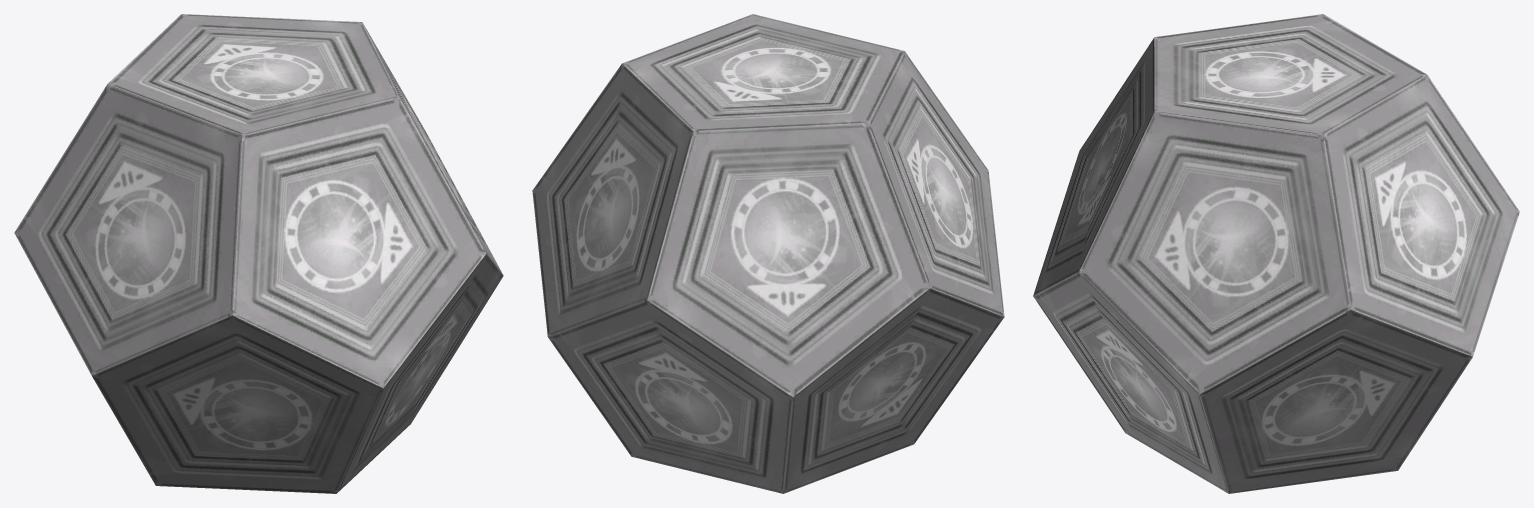
File: ui_holo_dode.fbx
3 views of the same model, side by side, from view 1: azimuth 30°, elevation 25°; view 2: azimuth 150°, elevation 25°; view 3: azimuth 270°, elevation 25° (orthographic). The views are drawn at different scales.
Visible parts, largest first — view 1: mesh_node; view 2: mesh_node; view 3: mesh_node.
Part boxes in pixels (box(x1,y1,x2,y2)): mesh_node: box(14, 14, 503, 493); mesh_node: box(532, 14, 1004, 493); mesh_node: box(1033, 14, 1519, 493).
Size of the model in its own units: 3.07 by 2.62 by 3.22.
